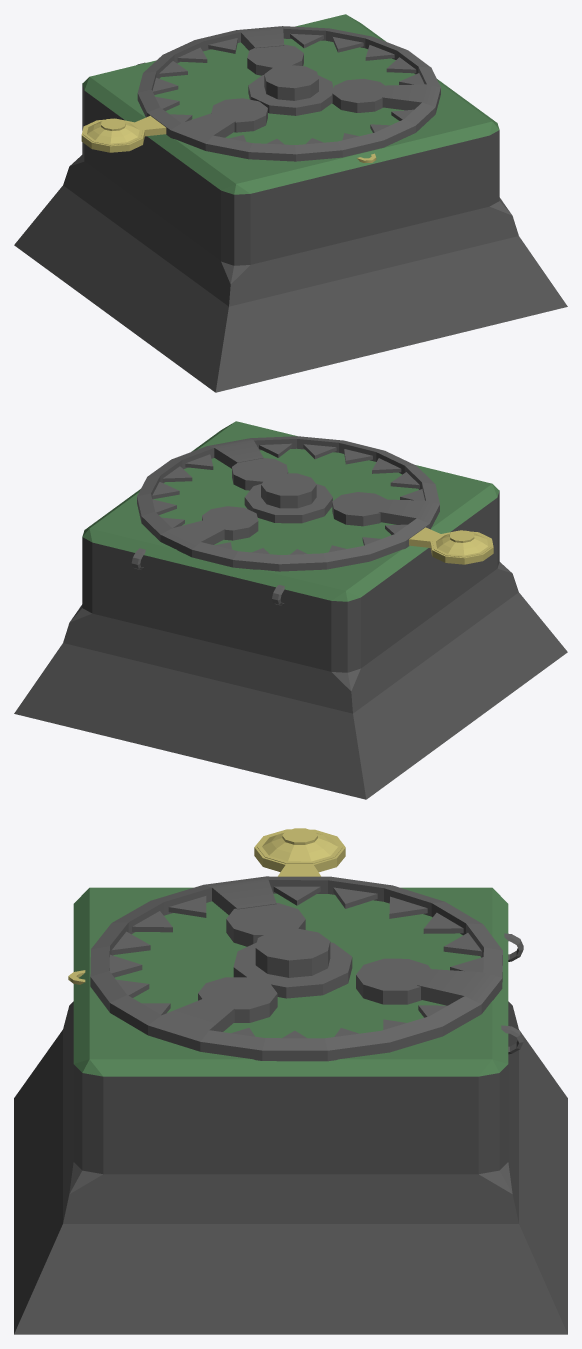
The model's file is obj_Lockerbox_A.fbx.
3 views of the same model, one above another, from view 1: azimuth 30°, elevation 25°; view 2: azimuth 150°, elevation 25°; view 3: azimuth 270°, elevation 25° (orthographic). The views are drawn at different scales.
Parts seen in each view (by area): view 1: Box, Lid, Wheel; view 2: Box, Lid, Wheel; view 3: Box, Lid, Wheel.
Boxes of the visible parts, x1=… form: Box: x1=14, y1=62, x2=567, y2=392; Lid: x1=82, y1=14, x2=499, y2=194; Wheel: x1=81, y1=26, x2=440, y2=161; Box: x1=14, y1=491, x2=567, y2=799; Lid: x1=82, y1=421, x2=499, y2=601; Wheel: x1=137, y1=436, x2=493, y2=571; Box: x1=14, y1=933, x2=567, y2=1334; Lid: x1=68, y1=887, x2=508, y2=1076; Wheel: x1=90, y1=828, x2=502, y2=1061.
Size of the model in its own units: 400 by 201 by 371.
